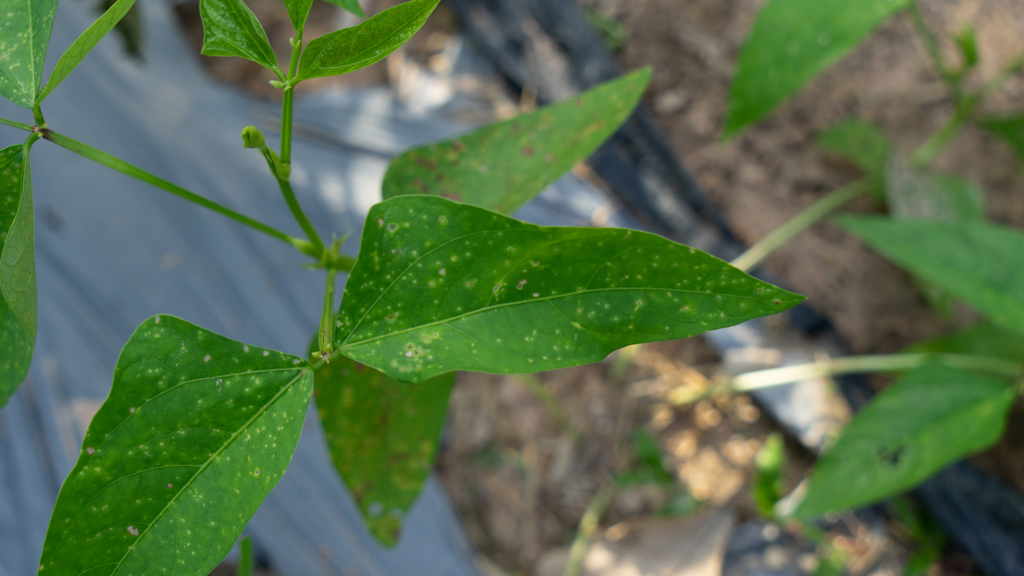Rust: (363, 211, 787, 368), (41, 346, 321, 564), (387, 68, 654, 197), (324, 373, 431, 538), (4, 146, 37, 392), (4, 10, 45, 104)
